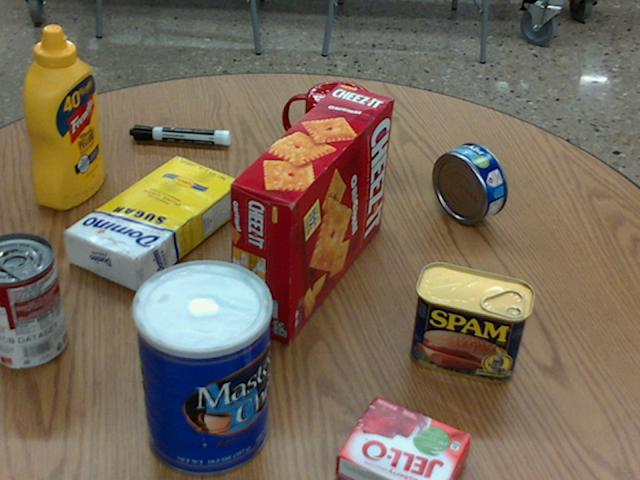cracker_box: (232, 84, 392, 339)
gelatin_box: (336, 396, 472, 479)
large_marker: (130, 124, 229, 144)
master_chef_can: (132, 260, 271, 476)
mug: (284, 81, 372, 174)
mustard_bottle: (25, 26, 103, 208)
potted_meat_can: (410, 261, 533, 382)
sugar_box: (63, 154, 240, 291)
tomato_soup_can: (0, 232, 66, 367)
tuna_fish_can: (431, 142, 506, 223)
